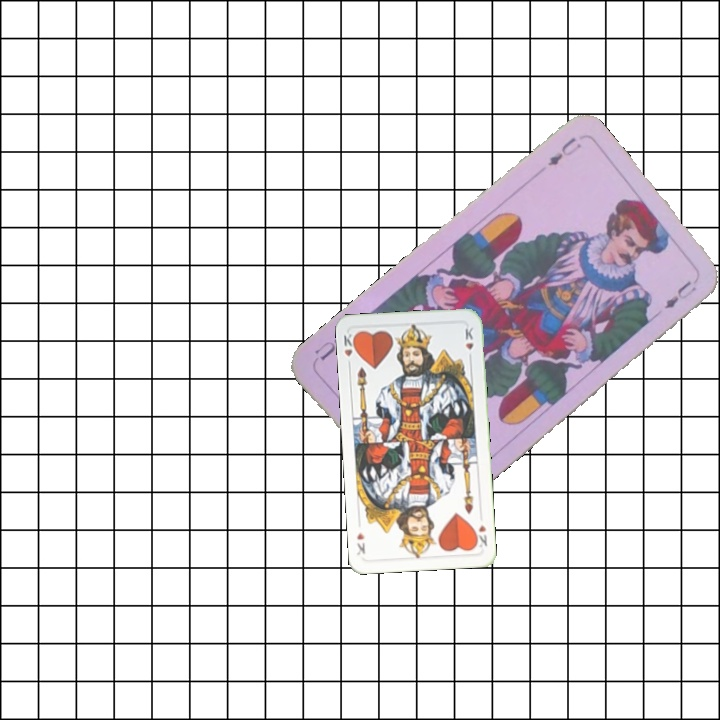EU: (543, 133, 584, 169)
HK: (339, 329, 359, 370), (471, 521, 489, 551)
